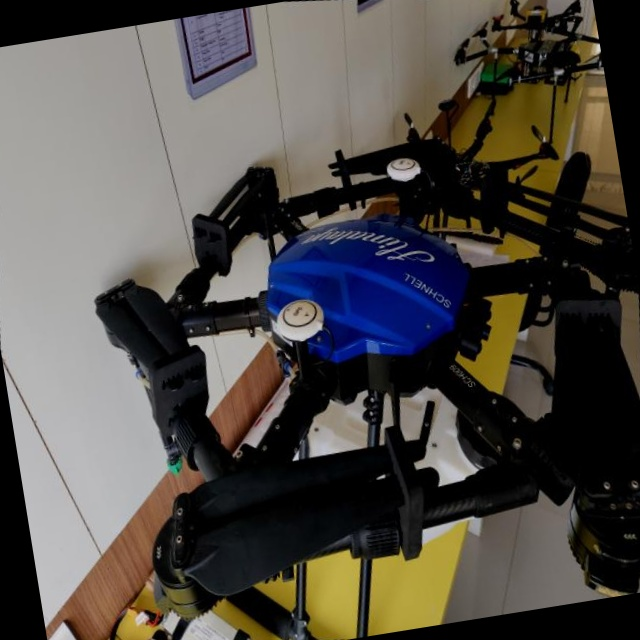agriculturedrone: (26, 74, 640, 640)
